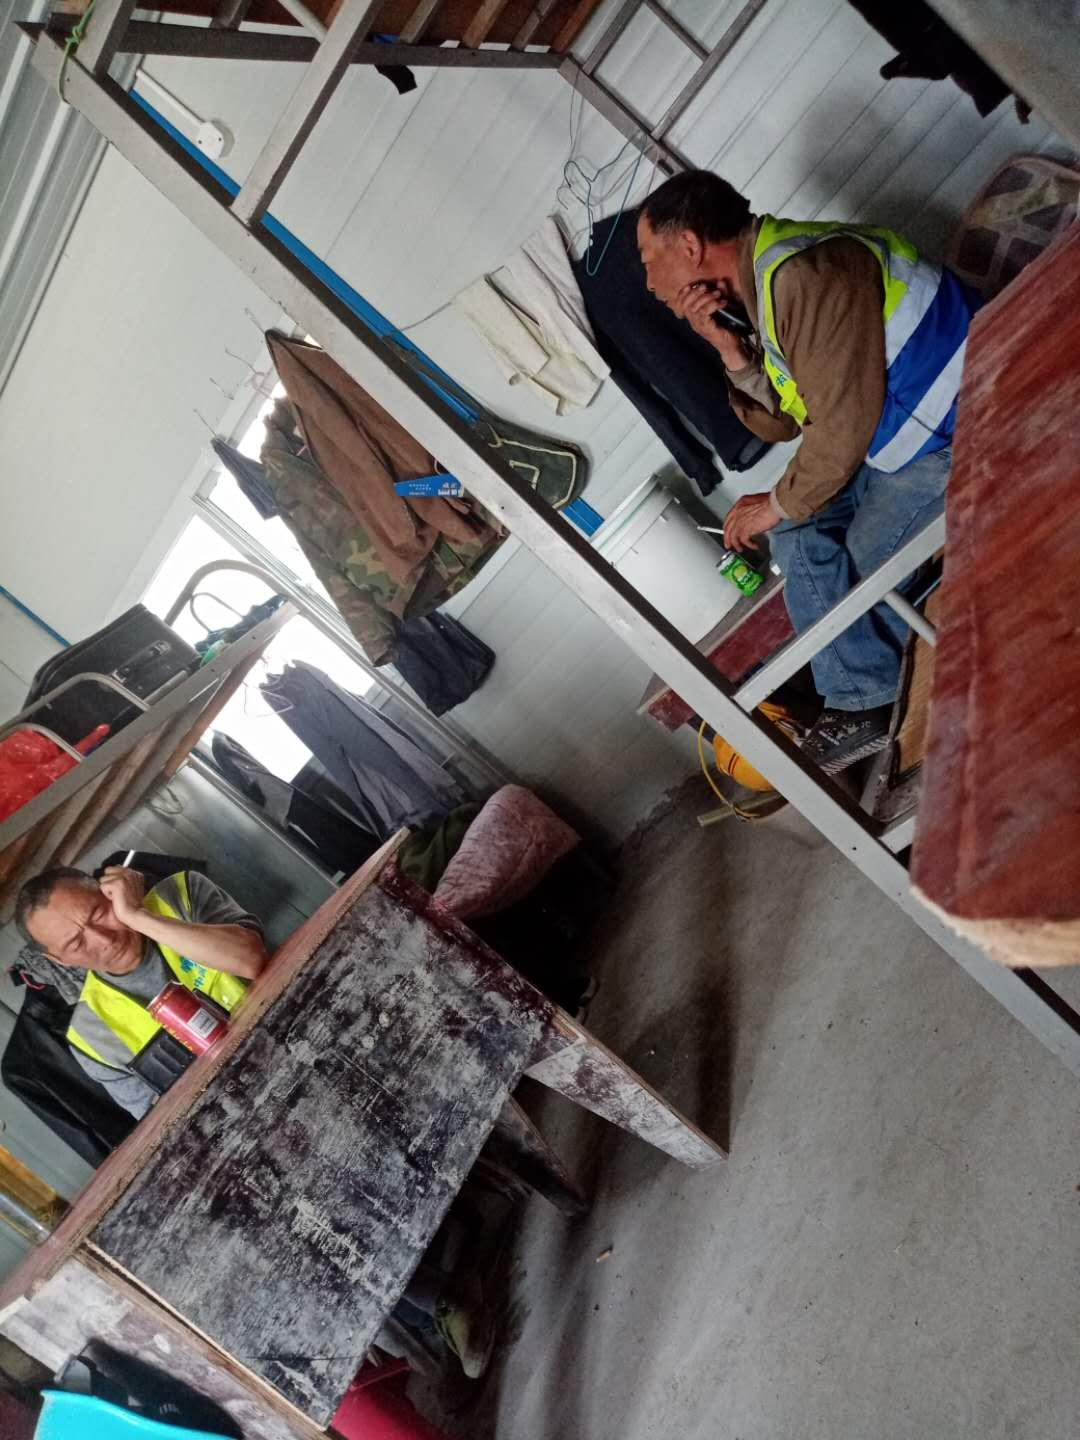Cigarette: (695, 524, 725, 534), (123, 849, 135, 869)
